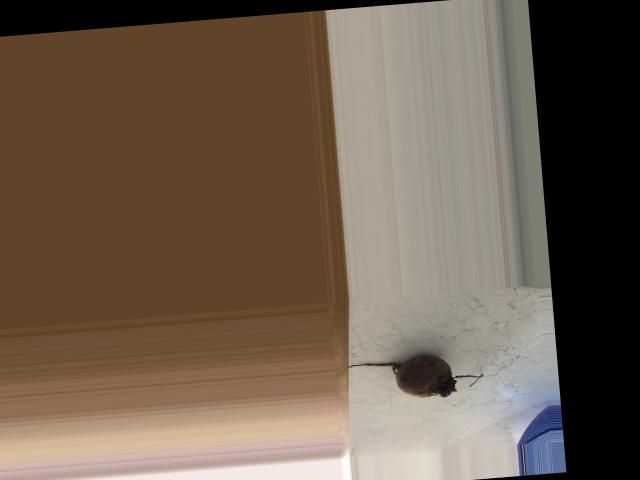beet: (343, 350, 484, 404)
